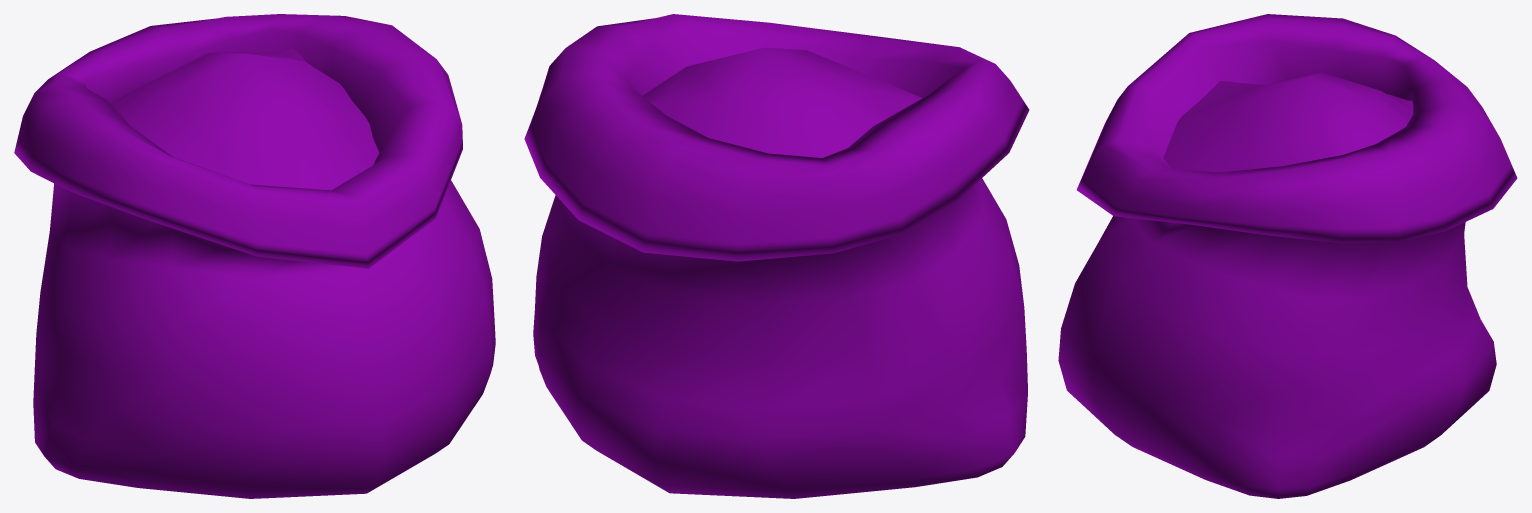
File: SM_Bags_03.fbx
3 renders of one model, left to right at view 1: azimuth 30°, elevation 25°; view 2: azimuth 150°, elevation 25°; view 3: azimuth 270°, elevation 25°, orthographic. The views are drawn at different scales.
Parts seen in each view (by area): view 1: Bags_03; view 2: Bags_03; view 3: Bags_03.
Part boxes in pixels (x1,y1,x2,y2): Bags_03: (14, 14, 495, 498); Bags_03: (524, 14, 1029, 498); Bags_03: (1058, 14, 1517, 498).
Size of the model in its own units: 96.2 by 74.19 by 94.3.
